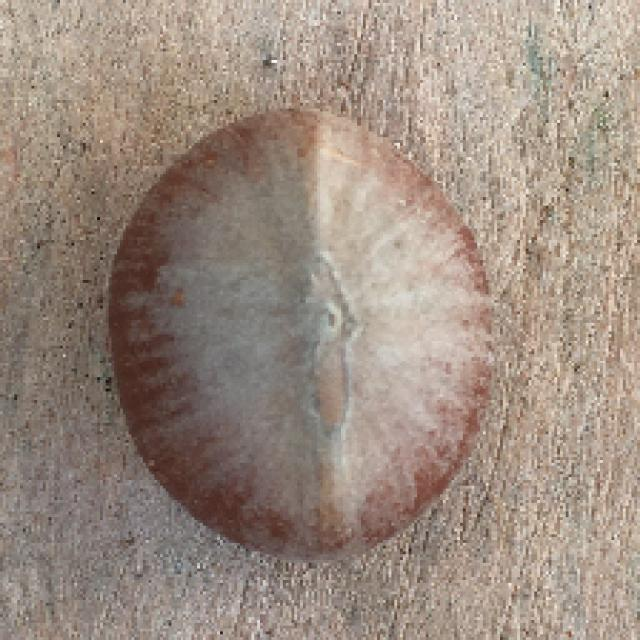QualityHazelnut: (106, 103, 498, 565)
